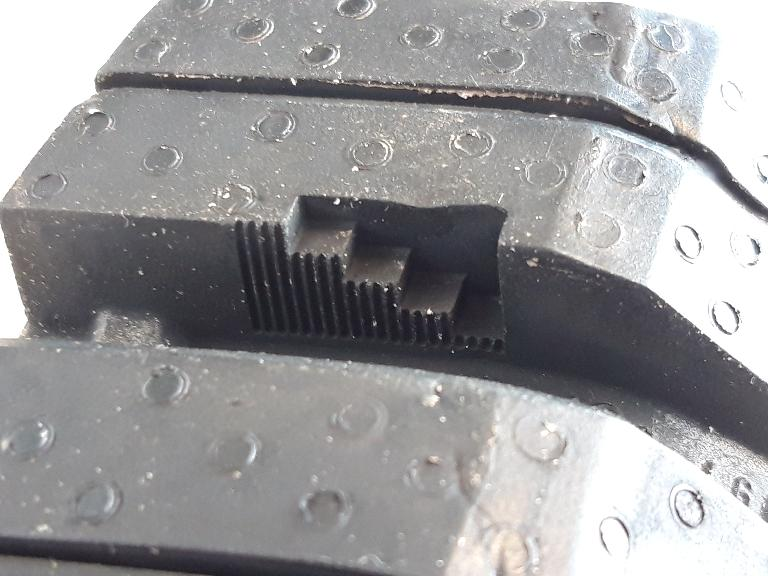temoin:100: (224, 184, 524, 369)
